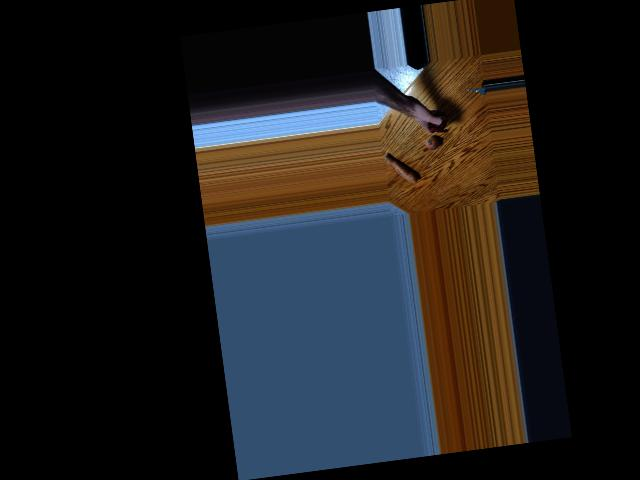onion: (424, 111, 446, 134)
